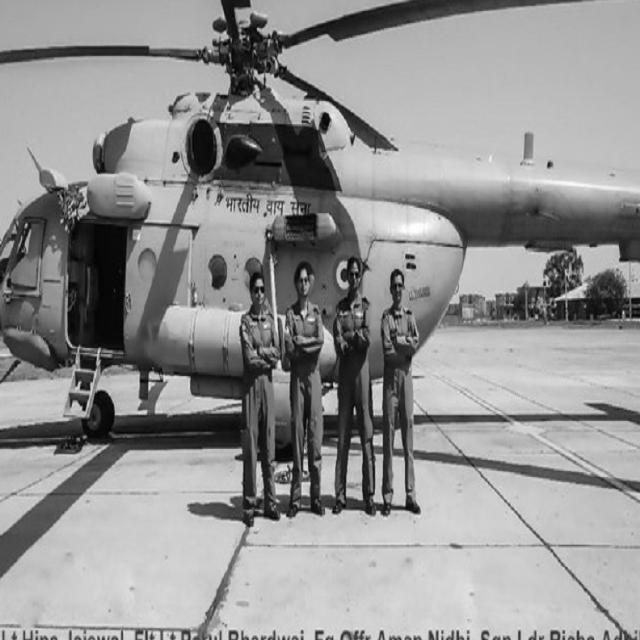helicopter: (1, 18, 640, 460)
